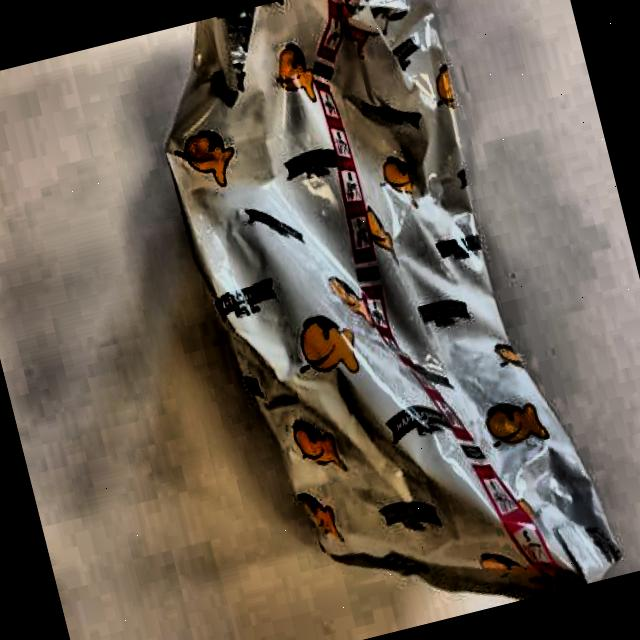trash: (172, 0, 571, 611)
